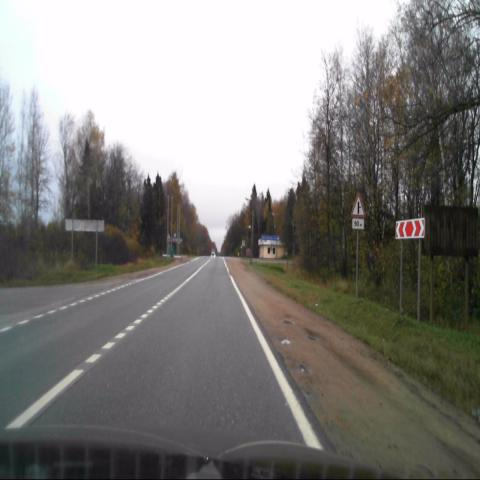2_3_2: (351, 194, 365, 217)
